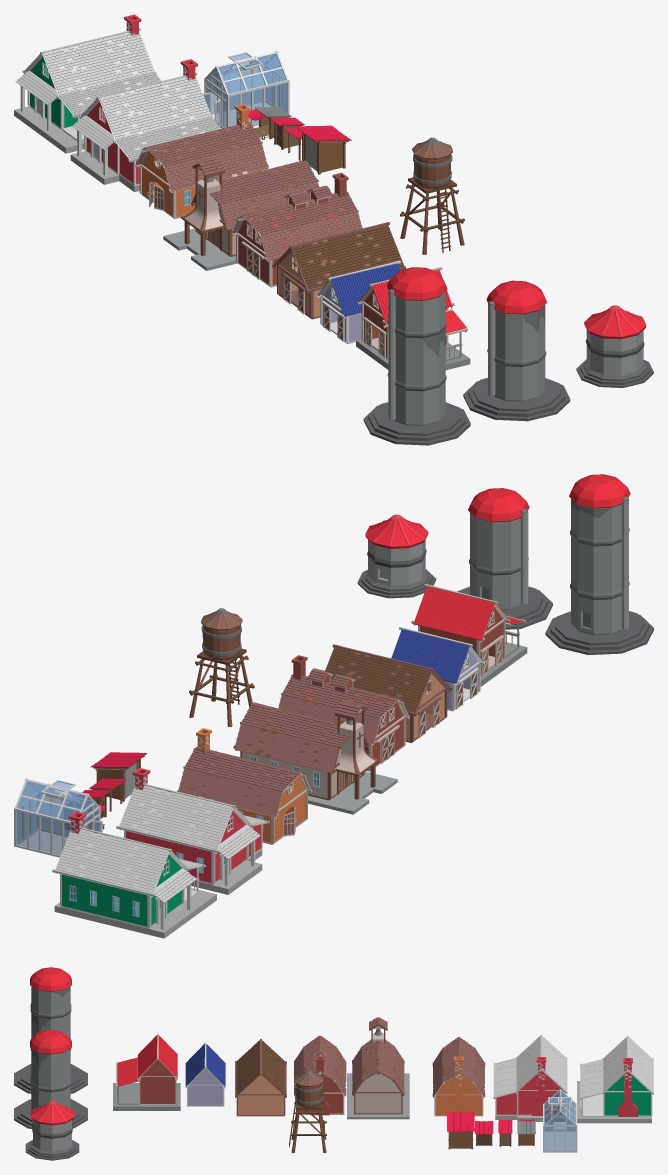
The model's file is NUildings_All.fbx.
3 views of the same model, one above another, from view 1: azimuth 30°, elevation 25°; view 2: azimuth 150°, elevation 25°; view 3: azimuth 270°, elevation 25° (orthographic). The views are drawn at different scales.
Parts seen in each view (by area): view 1: Roof (×2), Roof_Big (×3), Silo, Silo3, Silo2, GreenHouse, Roof_All, barn, WaterTank1, Barn, Barn7, Barn3 (+8 smaller); view 2: Roof_Big (×3), Silo, Roof (×2), Silo3, barn, Barn7, Silo2, GreenHouse, Barn, WaterTank1, Barn3, Roof_All (+7 smaller); view 3: Roof_Big (×3), Roof (×2), Barn7, Silo3, Silo, barn, Silo2, Barn3, GreenHouse, Barn2, Barn, Church (+12 smaller).
Part boxes in pixels (x1,y1,x2,y2): Roof (×2): (15,28,220,162); Roof_Big (×3): (136,122,362,260); Silo: (363,267,470,445); Silo3: (463,280,570,421); Silo2: (576,305,653,387); GreenHouse: (204,51,289,128); Roof_All: (288,224,403,289); barn: (14,31,161,153); WaterTank1: (400,137,464,254); Barn: (70,75,220,192); Barn7: (356,267,470,370); Barn3: (316,260,400,343); Roof_Big (×3): (178,674,409,817); Silo: (545,474,653,654); Roof (×2): (52,781,269,903); Silo3: (457,488,552,629); barn: (54,830,216,938); Barn7: (411,584,527,686); Silo2: (357,514,436,598); GreenHouse: (14,778,100,857); Barn: (119,785,266,894); WaterTank1: (189,608,254,727); Barn3: (391,626,484,711); Roof_All: (325,646,437,712); Roof_Big (×3): (294,1035,485,1096); Roof (×2): (493,1034,653,1099); Barn7: (113,1033,180,1110); Silo3: (14,1029,87,1128); Silo: (14,967,87,1093); barn: (577,1044,652,1123); Silo2: (25,1101,79,1160); Barn3: (185,1042,225,1106); GreenHouse: (543,1088,577,1152); Barn2: (235,1039,286,1116); Barn: (495,1043,565,1121); Church: (352,1041,403,1114).
Size of the model in its own units: 0.2494 by 0.129 by 0.6855.
Materials: 2 (2 with a texture image).
